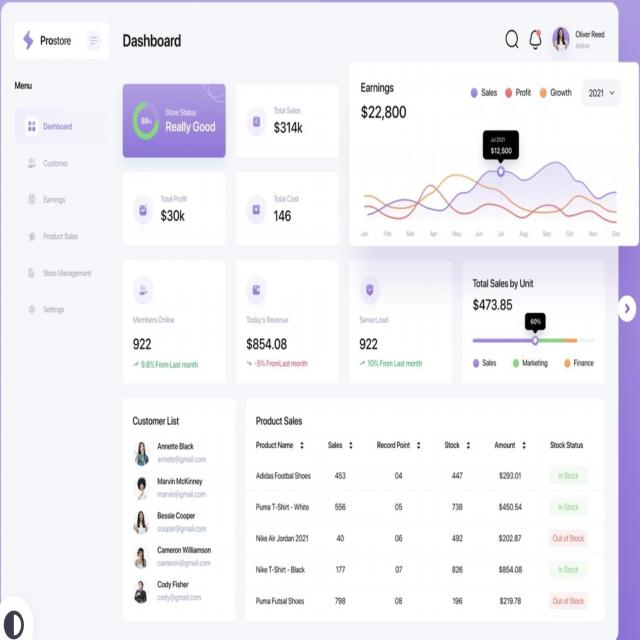button: (618, 293, 637, 324)
select: (582, 78, 620, 106)
